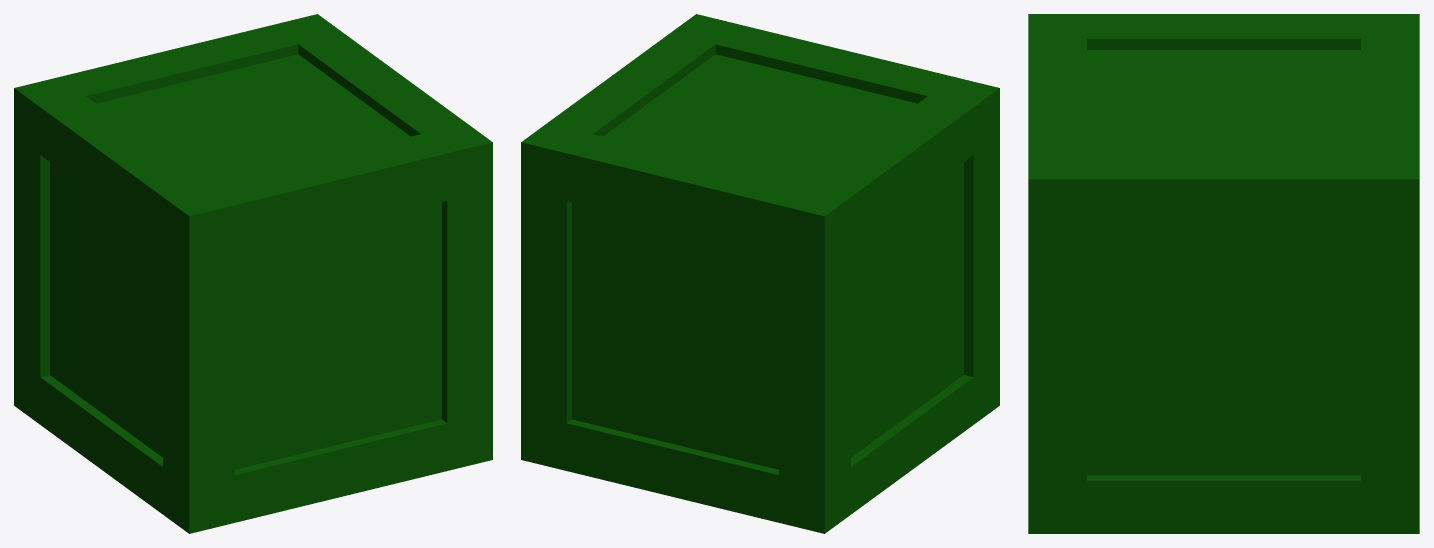
File: GreenBox.fbx
3 views of the same model, side by side, from view 1: azimuth 30°, elevation 25°; view 2: azimuth 150°, elevation 25°; view 3: azimuth 270°, elevation 25° (orthographic). The views are drawn at different scales.
Parts seen in each view (by area): view 1: Box_Green; view 2: Box_Green; view 3: Box_Green.
Part boxes in pixels (x1,y1,x2,y2): Box_Green: (14,14,492,533); Box_Green: (521,14,999,533); Box_Green: (1028,14,1419,533).
Bounding box in the file's own units: 175 × 175 × 175.
